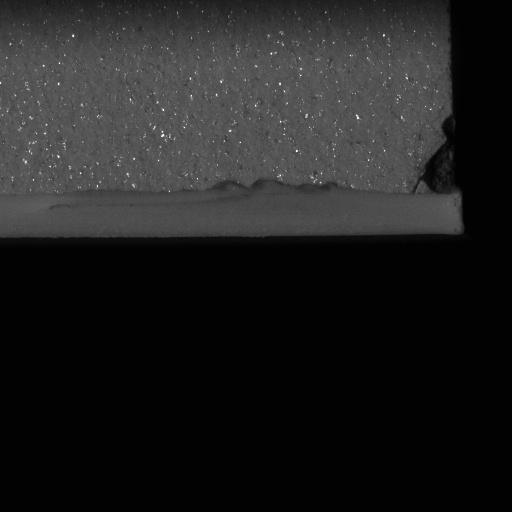bengque: (414, 115, 462, 200)
